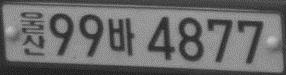4: (147, 16, 175, 60)
7: (237, 19, 264, 64), (206, 18, 233, 62)
8: (177, 16, 204, 60)
9: (48, 12, 75, 55), (79, 13, 104, 57)
바: (108, 17, 134, 56)
울산_V: (19, 11, 46, 55)
